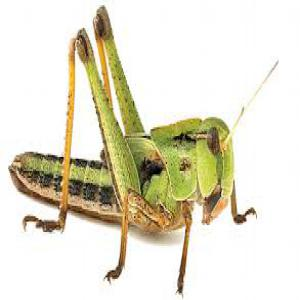locust: (14, 48, 264, 238)
